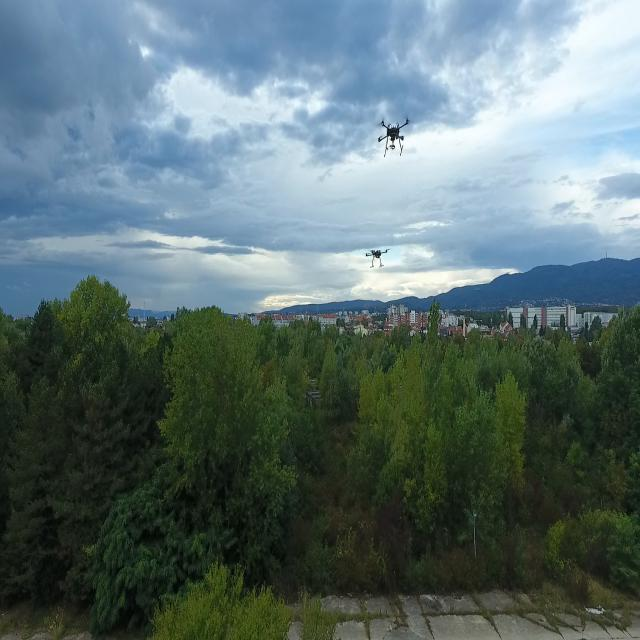UAV: (371, 110, 414, 165), (354, 246, 398, 270)
